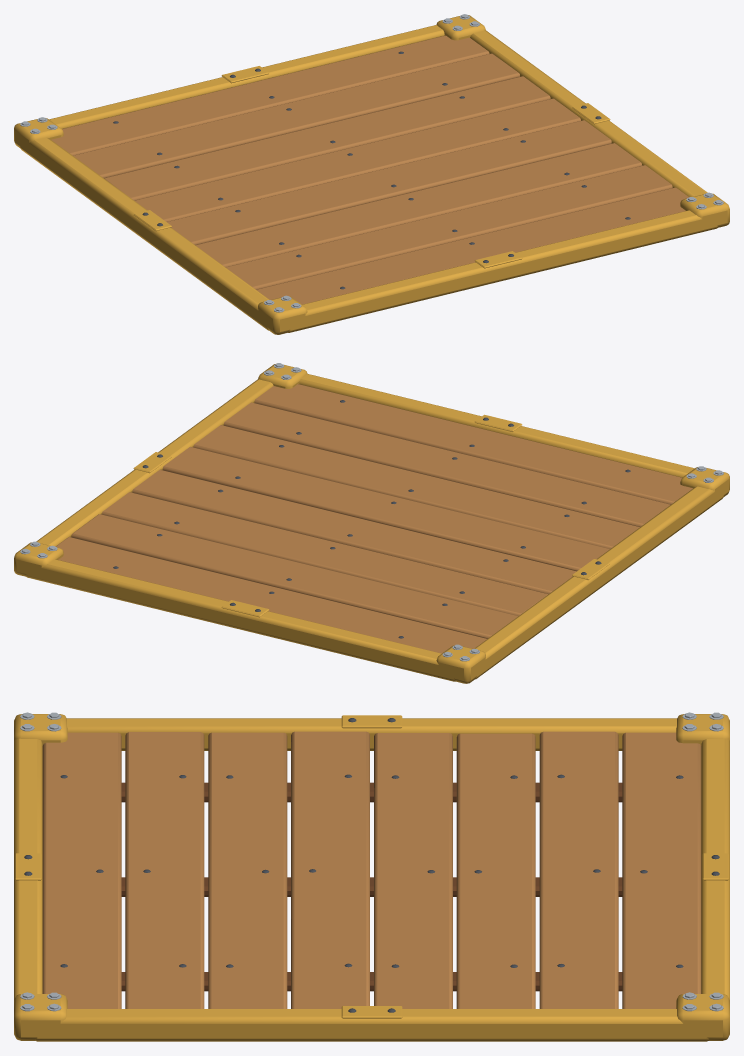
Rendered from part_platform.glb.
The picture shows the model from 3 angles, top to bottom: view 1: azimuth 30°, elevation 25°; view 2: azimuth 150°, elevation 25°; view 3: azimuth 270°, elevation 25°; orthographic projection. The views are drawn at different scales.
Parts seen in each view (by area): view 1: Platform; view 2: Platform; view 3: Platform.
Part boxes in pixels (box(x1,y1,x2,y2)): Platform: box(14, 14, 729, 334); Platform: box(14, 363, 729, 683); Platform: box(14, 712, 729, 1041).
Size of the model in its own units: 4 by 0.1996 by 4.
